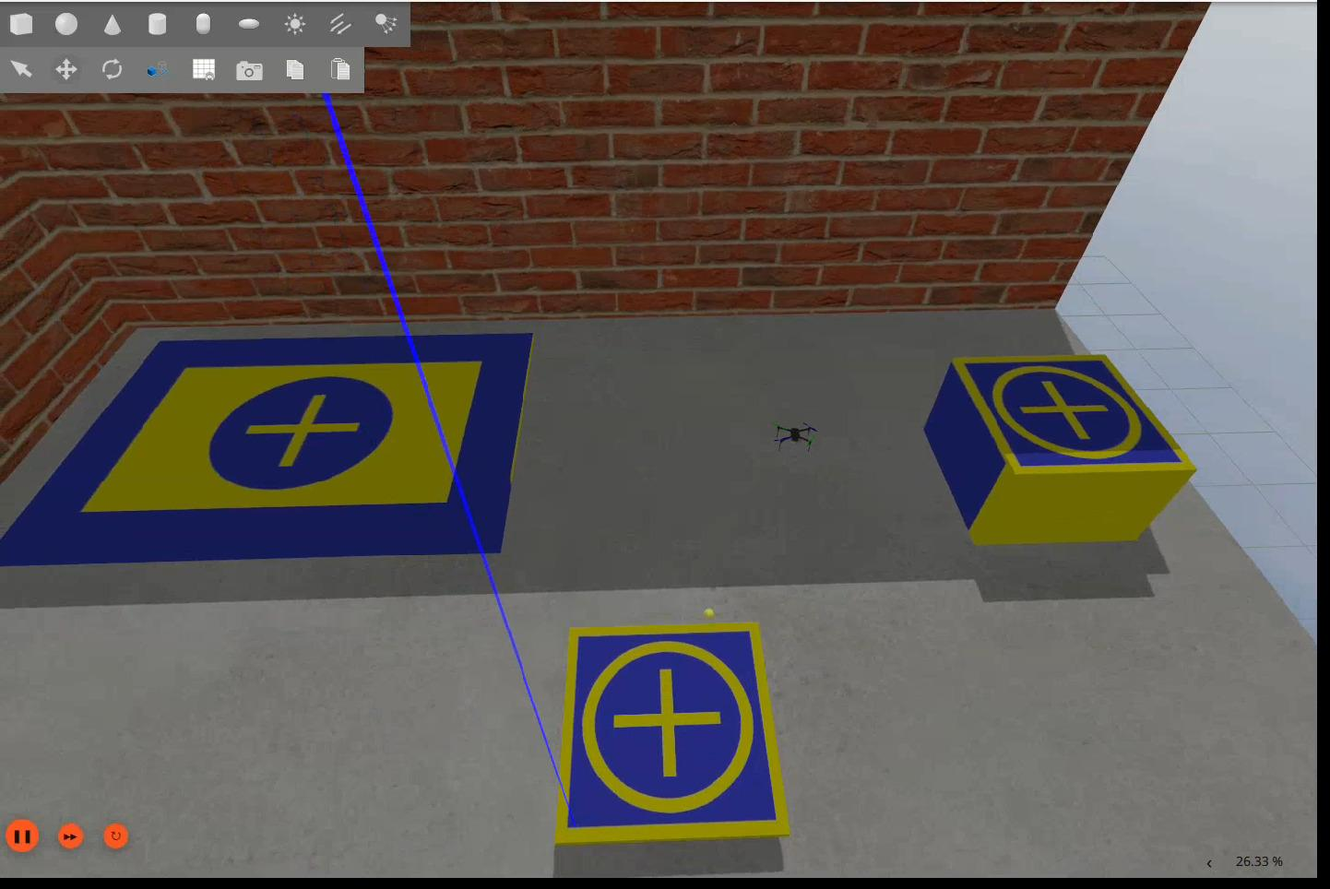large_base: (1, 329, 537, 566)
small_base: (555, 623, 794, 845), (947, 352, 1201, 477)
